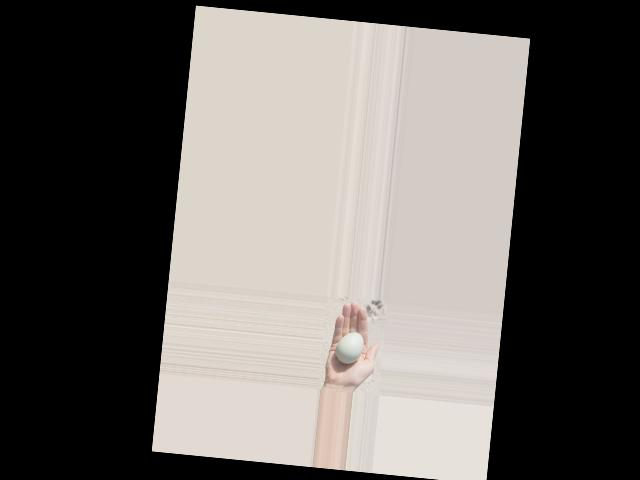egg: (334, 330, 363, 364)
